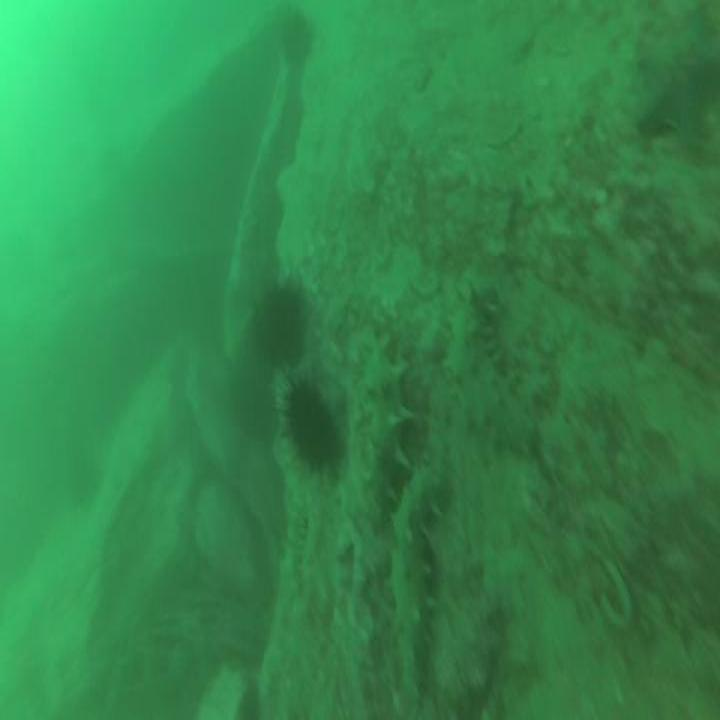echinus: (284, 382, 340, 470), (257, 294, 307, 372), (280, 11, 315, 68)
scallop: (396, 466, 453, 702), (447, 306, 534, 457), (352, 329, 409, 512)
